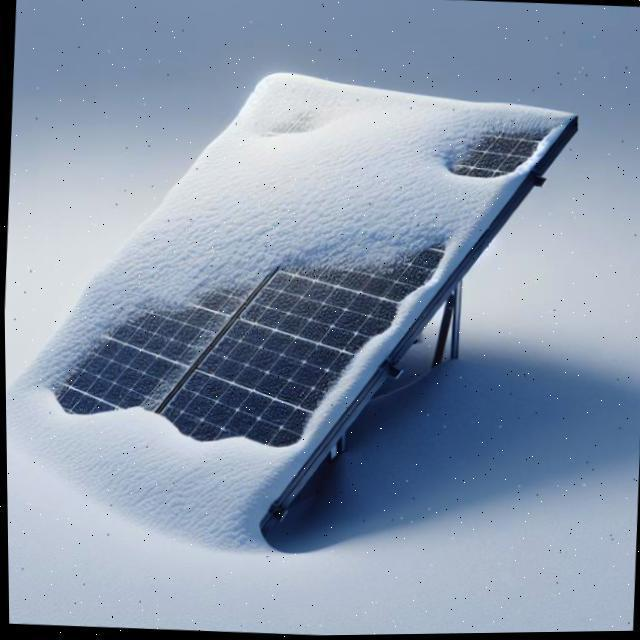Anomaly Solar Panel: (5, 0, 575, 580)
Snow: (5, 0, 576, 582)
